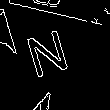N_N: (22, 15, 74, 76)
